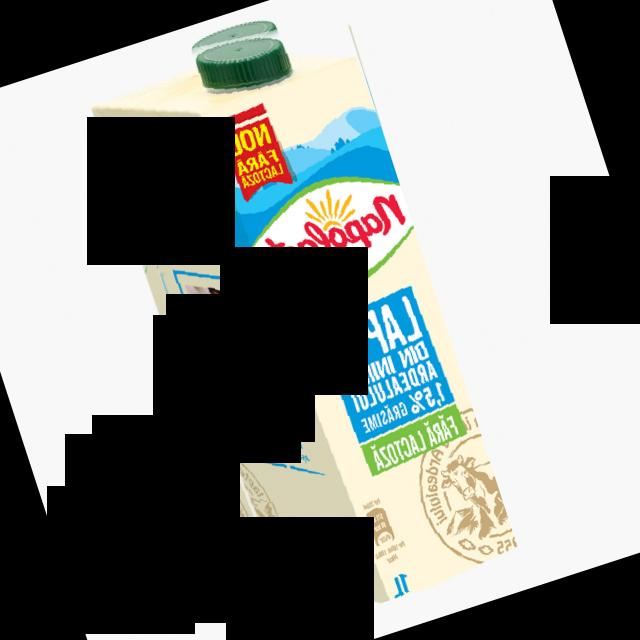milk: (80, 0, 521, 640)
